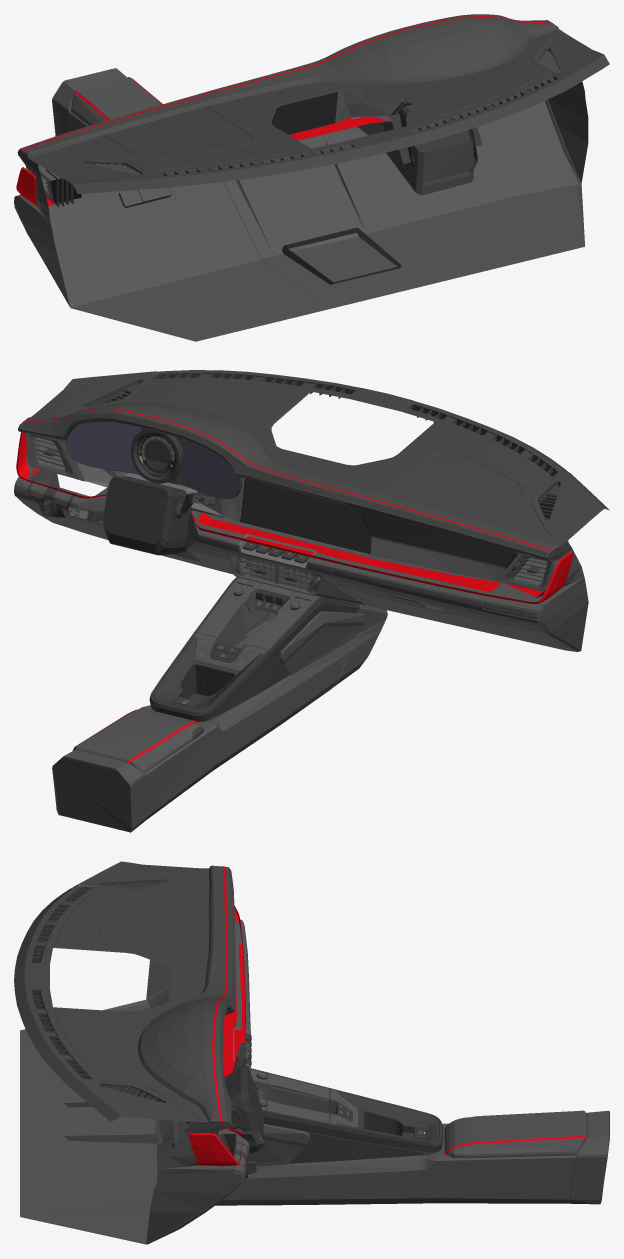
File: dash_9000.glb
3 renders of one model, top to bottom at view 1: azimuth 30°, elevation 25°; view 2: azimuth 150°, elevation 25°; view 3: azimuth 270°, elevation 25°, orthographic.
Parts seen in each view (by area): view 1: TwiXeR_992_dash_9000_TwiXeR_992_seat_leather.004_0, TwiXeR_992_dash_9000_TwiXeR_992_plastic.004_0, TwiXeR_992_dash_9000_TwiXeR_992_upper_leather.004_0, TwiXeR_992_dash_9000_TwiXeR_992_rubbertrim.011_0, TwiXeR_992_dash_9000_TwiXeR_992_gps_screen.003_0, TwiXeR_992_dash_9000_TwiXeR_992_ID04_plastic_textured_001|sh, TwiXeR_992_dash_9000_TwiXeR_992_ID08_fabric_002|centerconsol, TwiXeR_992_dash_9000_TwiXeR_992_plastic_2.003_0, TwiXeR_992_dash_9000_TwiXeR_992_ID03_stitch_001_111111FF.006; view 2: TwiXeR_992_dash_9000_TwiXeR_992_seat_leather.004_0, TwiXeR_992_dash_9000_TwiXeR_992_plastic.004_0, TwiXeR_992_dash_9000_TwiXeR_992_rubbertrim.011_0, TwiXeR_992_dash_9000_TwiXeR_992_upper_leather.004_0, TwiXeR_992_dash_9000_TwiXeR_992_ID04_plastic_textured_001|sh, TwiXeR_992_dash_9000_TwiXeR_992_gps_screen.003_0, TwiXeR_992_dash_9000_TwiXeR_992_ID08_fabric_002|centerconsol, TwiXeR_992_dash_9000_TwiXeR_992_gauges_1.003_0, TwiXeR_992_dash_9000_TwiXeR_992_plastic_2.003_0, TwiXeR_992_dash_9000_TwiXeR_992_ID02_leather_MGL.003_0, TwiXeR_992_dash_9000_TwiXeR_992_ID03_stitch_001_111111FF.006, TwiXeR_992_dash_9000_TwiXeR_992_ID03_stitch_001.003_0; view 3: TwiXeR_992_dash_9000_TwiXeR_992_seat_leather.004_0, TwiXeR_992_dash_9000_TwiXeR_992_plastic.004_0, TwiXeR_992_dash_9000_TwiXeR_992_upper_leather.004_0, TwiXeR_992_dash_9000_TwiXeR_992_rubbertrim.011_0, TwiXeR_992_dash_9000_TwiXeR_992_ID08_fabric_002|centerconsol, TwiXeR_992_dash_9000_TwiXeR_992_ID02_leather_MGL.003_0, TwiXeR_992_dash_9000_TwiXeR_992_ID03_stitch_001_111111FF.006.
Part boxes in pixels (<box>): TwiXeR_992_dash_9000_TwiXeR_992_seat_leather.004_0: <box>14,68,588,341</box>; TwiXeR_992_dash_9000_TwiXeR_992_plastic.004_0: <box>17,29,609,193</box>; TwiXeR_992_dash_9000_TwiXeR_992_upper_leather.004_0: <box>18,14,558,159</box>; TwiXeR_992_dash_9000_TwiXeR_992_rubbertrim.011_0: <box>390,101,482,185</box>; TwiXeR_992_dash_9000_TwiXeR_992_gps_screen.003_0: <box>271,92,337,134</box>; TwiXeR_992_dash_9000_TwiXeR_992_ID04_plastic_textured_001|sh: <box>26,89,408,170</box>; TwiXeR_992_dash_9000_TwiXeR_992_ID08_fabric_002|centerconsol: <box>16,115,390,206</box>; TwiXeR_992_dash_9000_TwiXeR_992_plastic_2.003_0: <box>28,137,364,249</box>; TwiXeR_992_dash_9000_TwiXeR_992_ID03_stitch_001_111111FF.006: <box>21,16,550,154</box>; TwiXeR_992_dash_9000_TwiXeR_992_seat_leather.004_0: <box>14,453,588,832</box>; TwiXeR_992_dash_9000_TwiXeR_992_plastic.004_0: <box>31,370,609,560</box>; TwiXeR_992_dash_9000_TwiXeR_992_rubbertrim.011_0: <box>27,428,554,740</box>; TwiXeR_992_dash_9000_TwiXeR_992_upper_leather.004_0: <box>18,402,558,568</box>; TwiXeR_992_dash_9000_TwiXeR_992_ID04_plastic_textured_001|sh: <box>26,433,554,591</box>; TwiXeR_992_dash_9000_TwiXeR_992_gps_screen.003_0: <box>240,478,371,554</box>; TwiXeR_992_dash_9000_TwiXeR_992_ID08_fabric_002|centerconsol: <box>16,432,573,603</box>; TwiXeR_992_dash_9000_TwiXeR_992_gauges_1.003_0: <box>67,422,239,497</box>; TwiXeR_992_dash_9000_TwiXeR_992_plastic_2.003_0: <box>28,434,558,605</box>; TwiXeR_992_dash_9000_TwiXeR_992_ID02_leather_MGL.003_0: <box>30,480,320,671</box>; TwiXeR_992_dash_9000_TwiXeR_992_ID03_stitch_001_111111FF.006: <box>23,409,551,764</box>; TwiXeR_992_dash_9000_TwiXeR_992_ID03_stitch_001.003_0: <box>31,450,519,702</box>; TwiXeR_992_dash_9000_TwiXeR_992_seat_leather.004_0: <box>20,919,609,1244</box>; TwiXeR_992_dash_9000_TwiXeR_992_plastic.004_0: <box>14,861,231,1133</box>; TwiXeR_992_dash_9000_TwiXeR_992_upper_leather.004_0: <box>138,865,235,1124</box>; TwiXeR_992_dash_9000_TwiXeR_992_rubbertrim.011_0: <box>172,1034,443,1178</box>; TwiXeR_992_dash_9000_TwiXeR_992_ID08_fabric_002|centerconsol: <box>188,905,245,1166</box>; TwiXeR_992_dash_9000_TwiXeR_992_ID02_leather_MGL.003_0: <box>234,1069,357,1169</box>; TwiXeR_992_dash_9000_TwiXeR_992_ID03_stitch_001_111111FF.006: <box>212,866,586,1154</box>.
Size of the model in its own units: 1.38 by 0.5587 by 1.34.
16 materials, 1 textured.
